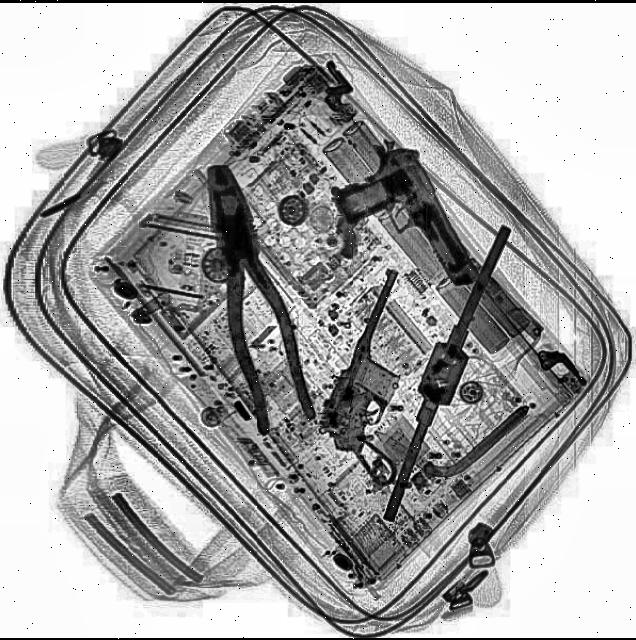Gun: (305, 264, 467, 490), (323, 126, 483, 324)
Pliers: (184, 152, 318, 438)
